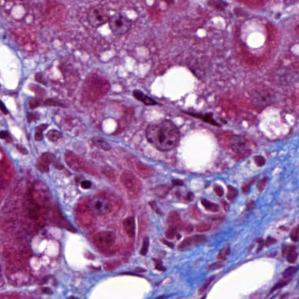inflammation: (141, 114, 186, 156), (194, 180, 240, 217), (76, 178, 97, 196)
